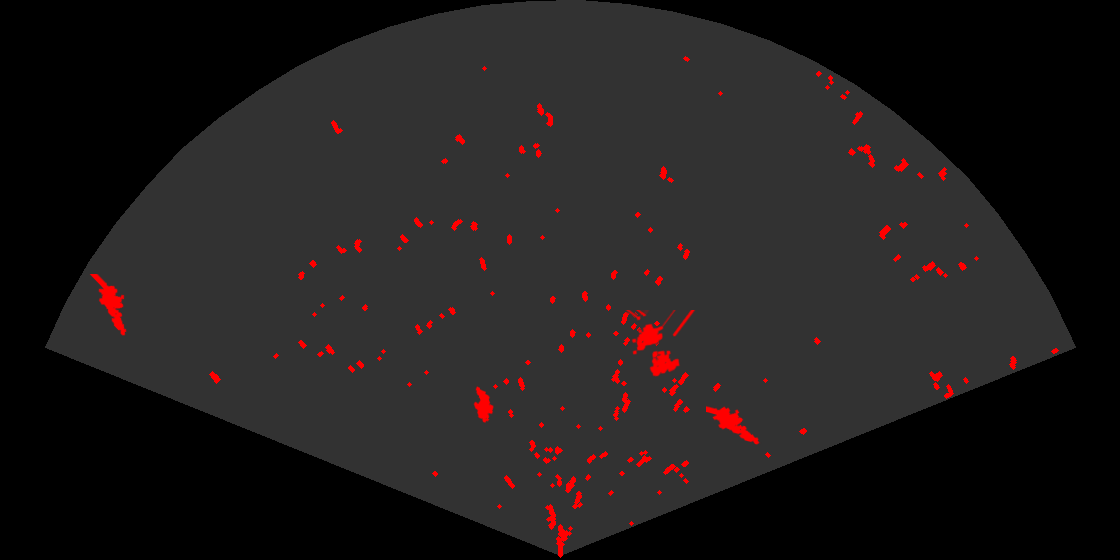AUV: (472, 384, 495, 425)
cage: (624, 310, 697, 378)
frogman: (88, 274, 128, 337), (706, 404, 762, 446)
